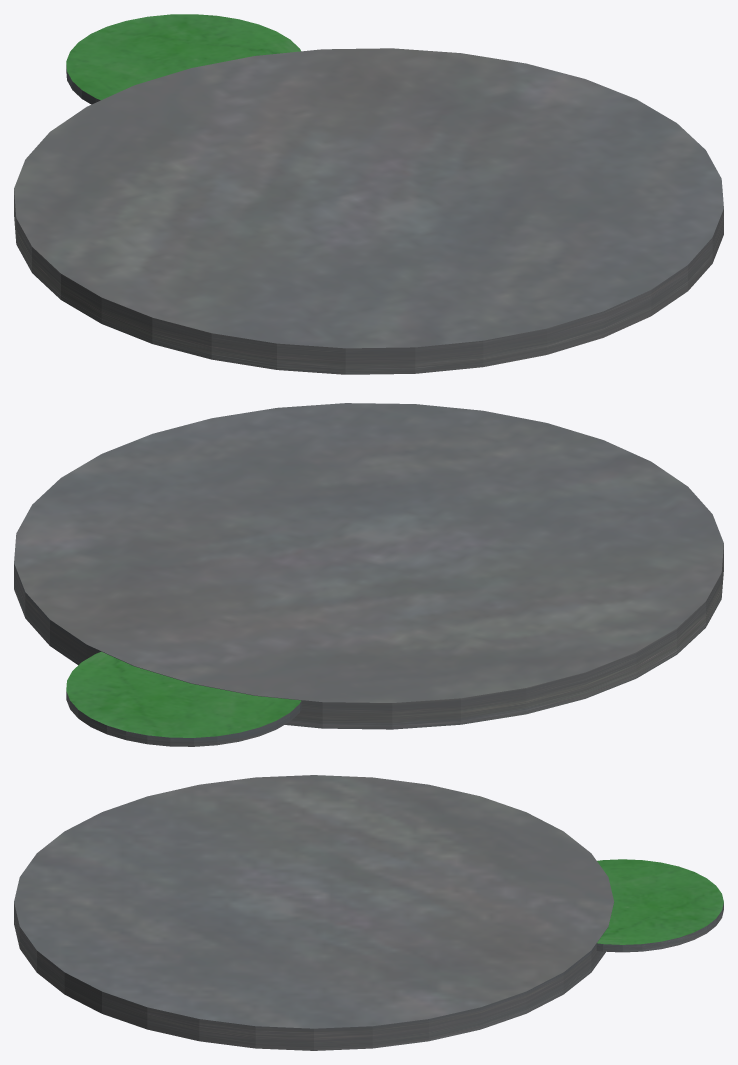
File: Selectionplatform.fbx
3 renders of one model, top to bottom at view 1: azimuth 30°, elevation 25°; view 2: azimuth 150°, elevation 25°; view 3: azimuth 270°, elevation 25°, orthographic. The views are drawn at different scales.
Parts seen in each view (by area): view 1: Cylinder, Choice Platform; view 2: Cylinder, Choice Platform; view 3: Cylinder, Choice Platform.
Boxes of the visible parts, box(x1,y1,x2,y2) form: Cylinder: box(14, 48, 723, 374); Choice Platform: box(66, 14, 300, 104); Cylinder: box(14, 403, 723, 729); Choice Platform: box(66, 651, 301, 746); Cylinder: box(14, 775, 613, 1050); Choice Platform: box(596, 859, 723, 952).
Size of the model in its own units: 417 by 17.11 by 494.
